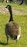goose: (1, 2, 23, 47)
